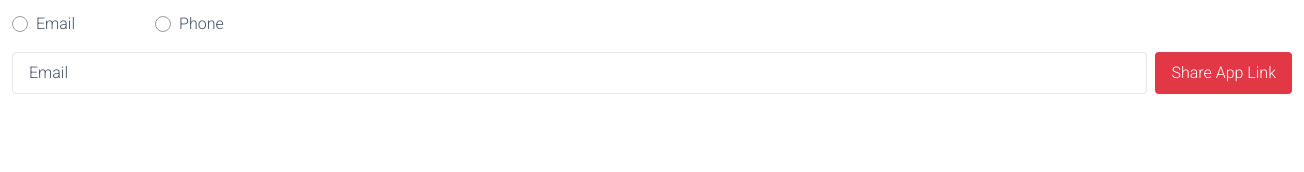
Test case: Selecting Phone shows the Phone input field
The width and height of the screenshot is (1304, 172).
Click the radio button labelled "Phone". click: (163,24)
box: [155,16,171,32]
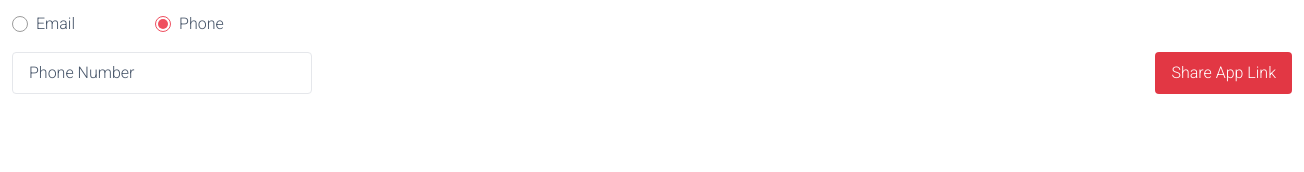
Result: the number field with placeholder "Phone Number" is shown at [12,52,312,94]
